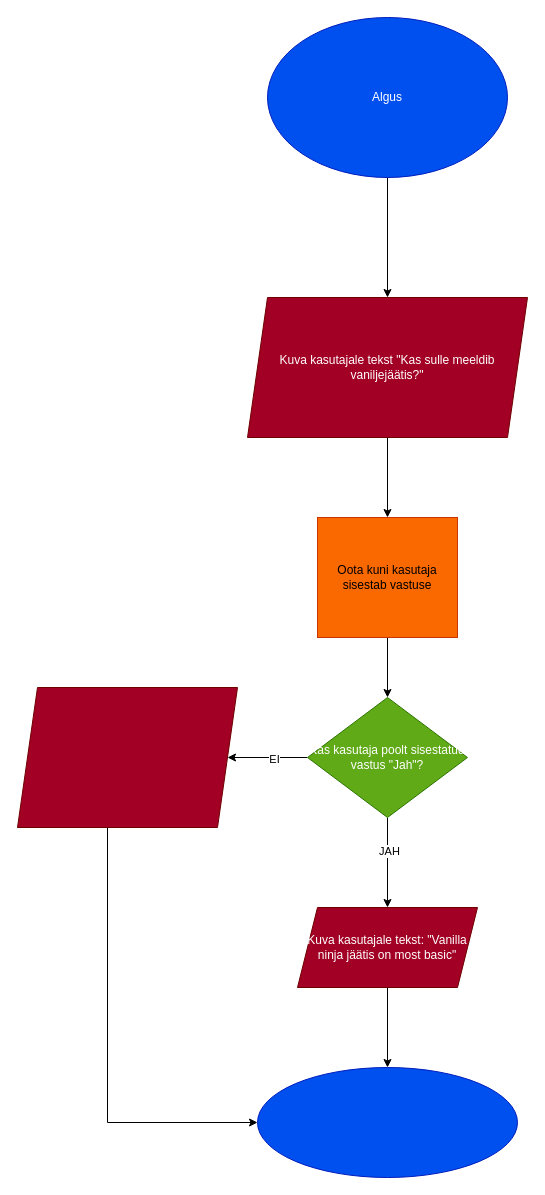
Image size: 545x1195. Some labels were removed from this diagram. Here are the shapes that lost their labels. From the top down, the centre of each, then its label:
the point at 127,757: Kuva kasutajale tekst: "Vähemalt pole basic maitse sul"
the point at 387,1122: Lõpp
